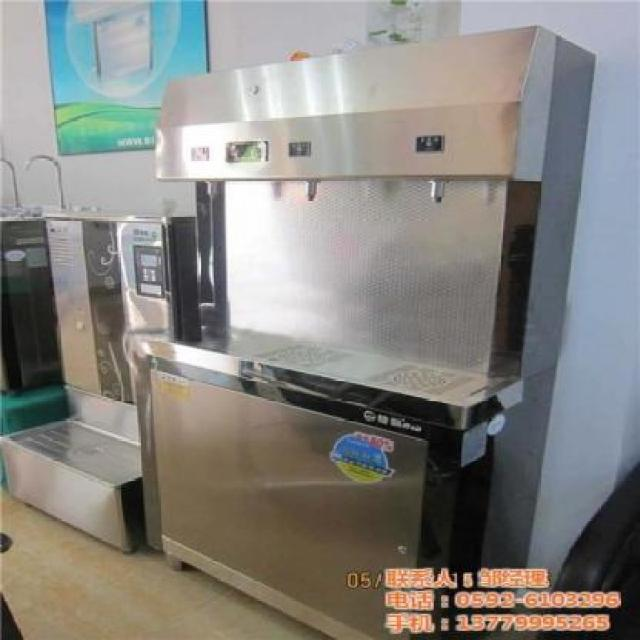cooler: (126, 20, 602, 640)
